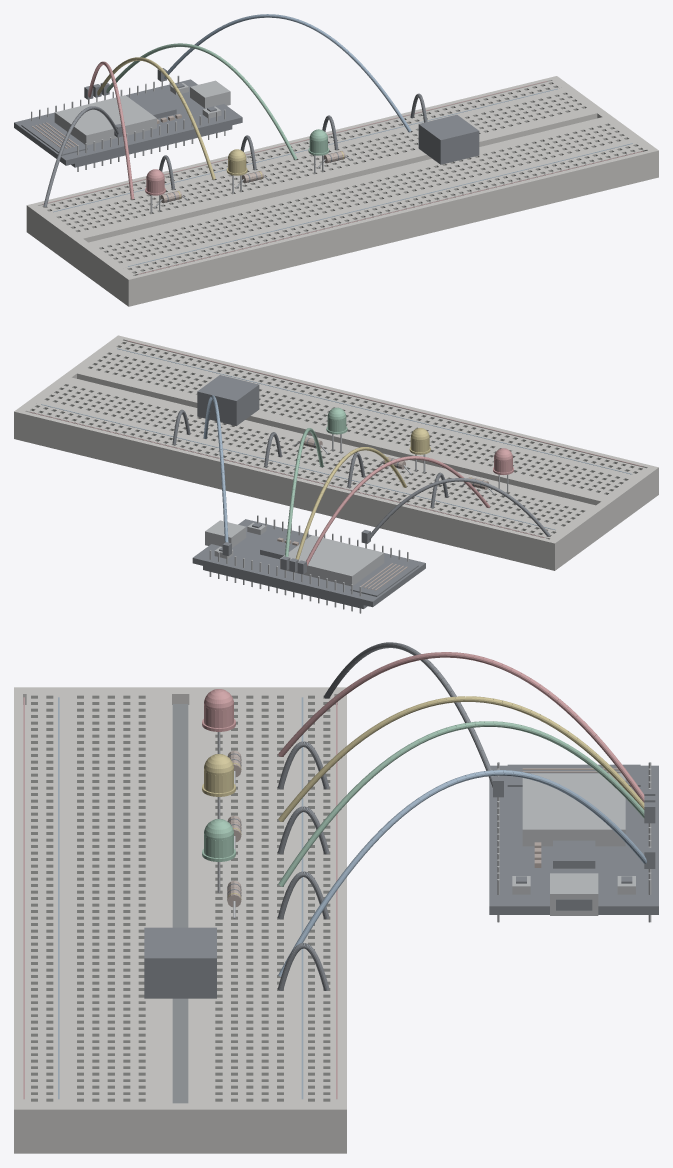
3 views of the same model, one above another, from view 1: azimuth 30°, elevation 25°; view 2: azimuth 150°, elevation 25°; view 3: azimuth 270°, elevation 25° (orthographic). The views are drawn at different scales.
Parts seen in each view (by area): view 1: breadboard__mesh, uno__mesh, button__mesh, wire_button_signal__mesh, wire_green_signal__mesh, wire_yellow_signal__mesh, wire_red_signal__mesh, wire_ground__mesh, led_red__mesh, led_green__mesh, led_yellow__mesh; view 2: breadboard__mesh, uno__mesh, button__mesh, wire_red_signal__mesh, wire_ground__mesh, wire_button_signal__mesh, wire_yellow_signal__mesh, wire_green_signal__mesh, led_green__mesh, led_yellow__mesh, led_red__mesh; view 3: breadboard__mesh, uno__mesh, button__mesh, wire_green_signal__mesh, wire_button_signal__mesh, wire_red_signal__mesh, wire_yellow_signal__mesh, wire_ground__mesh, led_green__mesh, led_red__mesh, led_yellow__mesh.
Boxes of the visible parts, left/top/right/bottom form: breadboard__mesh: left=26, top=76, right=658, bottom=306; uno__mesh: left=14, top=75, right=242, bottom=171; button__mesh: left=418, top=114, right=479, bottom=164; wire_button_signal__mesh: left=157, top=14, right=411, bottom=132; wire_green_signal__mesh: left=100, top=43, right=297, bottom=159; wire_yellow_signal__mesh: left=93, top=57, right=215, bottom=179; wire_red_signal__mesh: left=84, top=61, right=134, bottom=199; wire_ground__mesh: left=43, top=106, right=122, bottom=207; led_red__mesh: left=145, top=169, right=165, bottom=213; led_green__mesh: left=308, top=129, right=329, bottom=173; led_yellow__mesh: left=226, top=149, right=247, bottom=193; breadboard__mesh: left=14, top=335, right=658, bottom=570; uno__mesh: left=192, top=515, right=425, bottom=613; button__mesh: left=197, top=375, right=259, bottom=425; wire_red_signal__mesh: left=297, top=456, right=489, bottom=574; wire_ground__mesh: left=361, top=478, right=550, bottom=543; wire_button_signal__mesh: left=203, top=395, right=231, bottom=555; wire_yellow_signal__mesh: left=289, top=447, right=406, bottom=572; wire_green_signal__mesh: left=281, top=428, right=323, bottom=570; led_green__mesh: left=326, top=407, right=347, bottom=452; led_yellow__mesh: left=409, top=428, right=430, bottom=472; led_red__mesh: left=493, top=448, right=513, bottom=493; breadboard__mesh: left=14, top=687, right=346, bottom=1153; uno__mesh: left=489, top=762, right=658, bottom=922; button__mesh: left=144, top=927, right=216, bottom=998; wire_green_signal__mesh: left=278, top=721, right=655, bottom=886; wire_button_signal__mesh: left=278, top=770, right=655, bottom=976; wire_red_signal__mesh: left=278, top=652, right=655, bottom=802; wire_yellow_signal__mesh: left=278, top=696, right=655, bottom=821; wire_ground__mesh: left=324, top=642, right=503, bottom=797; led_green__mesh: left=202, top=819, right=235, bottom=892; led_red__mesh: left=202, top=689, right=235, bottom=753; led_yellow__mesh: left=202, top=754, right=235, bottom=818.
Size of the model in its own units: 0.165 by 0.0349 by 0.1065.
